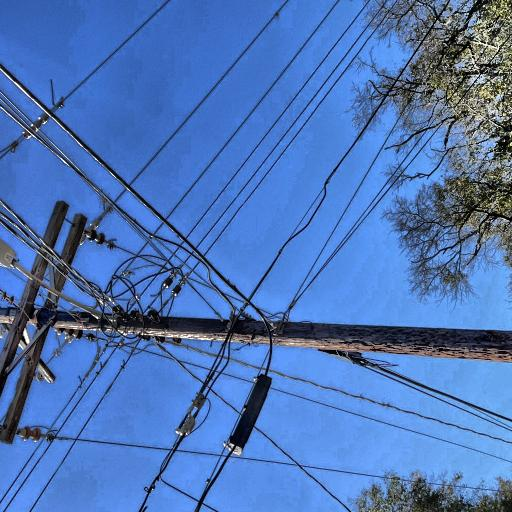pole: (8, 73, 88, 512)
street light: (64, 92, 150, 251)
